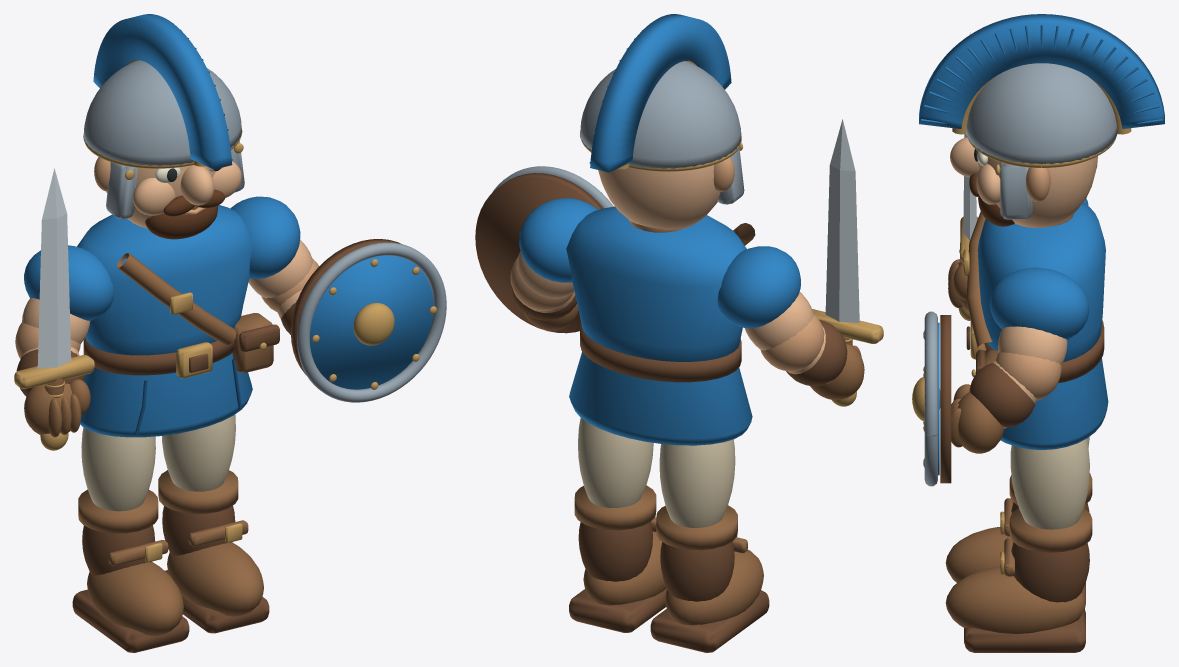
The model's file is soldaat_veteraan.glb.
The picture shows the model from 3 angles, left to right: view 1: azimuth 30°, elevation 25°; view 2: azimuth 150°, elevation 25°; view 3: azimuth 270°, elevation 25°; orthographic projection. The views are drawn at different scales.
Visible parts, largest first — view 1: Tunic_torso.002, Shield_team_face.002, Tunic_skirt.002, Helmet_dome.002, Full_mohawk, Shield_metal_rim.002, Boot_toe.004, Boot_toe.005, Sword_blade.002, Trouser_leg.004, Trouser_leg.005, Sleeve.005 (+27 smaller); view 2: Tunic_torso.002, Tunic_skirt.002, Helmet_dome.002, Full_mohawk, Shield_core.002, Head.002, Trouser_leg.004, Sword_blade.002, Sleeve.004, Trouser_leg.005, Sleeve.005, Boot_shaft.004 (+18 smaller); view 3: Full_mohawk, Helmet_dome.002, Tunic_torso.002, Boot_toe.005, Trouser_leg.005, Sleeve.005, Tunic_skirt.002, Boot_shaft.005, Head.002, Boot_sole.005, Bracer.005, Shield_metal_rim.002 (+18 smaller).
Part boxes in pixels (bbox=[...]): Tunic_torso.002: bbox=[77, 205, 252, 355]; Shield_team_face.002: bbox=[309, 255, 433, 389]; Tunic_skirt.002: bbox=[80, 353, 252, 437]; Helmet_dome.002: bbox=[83, 60, 241, 165]; Full_mohawk: bbox=[93, 14, 232, 169]; Shield_metal_rim.002: bbox=[297, 242, 446, 402]; Boot_toe.004: bbox=[87, 562, 183, 636]; Boot_toe.005: bbox=[167, 542, 263, 616]; Sword_blade.002: bbox=[37, 168, 71, 368]; Trouser_leg.004: bbox=[81, 427, 155, 511]; Trouser_leg.005: bbox=[162, 414, 235, 491]; Sleeve.005: bbox=[230, 196, 300, 279]; Tunic_torso.002: bbox=[566, 206, 746, 361]; Tunic_skirt.002: bbox=[569, 352, 752, 445]; Helmet_dome.002: bbox=[580, 61, 741, 168]; Full_mohawk: bbox=[590, 14, 731, 172]; Shield_core.002: bbox=[475, 173, 603, 333]; Head.002: bbox=[598, 165, 720, 229]; Trouser_leg.004: bbox=[659, 439, 735, 527]; Sword_blade.002: bbox=[825, 119, 859, 323]; Sleeve.004: bbox=[717, 246, 800, 328]; Trouser_leg.005: bbox=[578, 418, 653, 507]; Sleeve.005: bbox=[519, 198, 597, 282]; Boot_shaft.004: bbox=[660, 542, 734, 601]; Full_mohawk: bbox=[919, 14, 1164, 128]; Helmet_dome.002: bbox=[966, 63, 1117, 164]; Tunic_torso.002: bbox=[977, 202, 1105, 362]; Boot_toe.005: bbox=[945, 567, 1085, 633]; Trouser_leg.005: bbox=[1010, 439, 1089, 529]; Sleeve.005: bbox=[990, 267, 1088, 339]; Tunic_skirt.002: bbox=[1000, 358, 1108, 449]; Boot_shaft.005: bbox=[1011, 542, 1089, 602]; Head.002: bbox=[978, 156, 1097, 227]; Boot_sole.005: bbox=[964, 609, 1085, 652]; Bracer.005: bbox=[969, 363, 1034, 427]; Shield_metal_rim.002: bbox=[924, 311, 937, 486].
Size of the model in its own units: 1.59 by 2.17 by 0.828.
